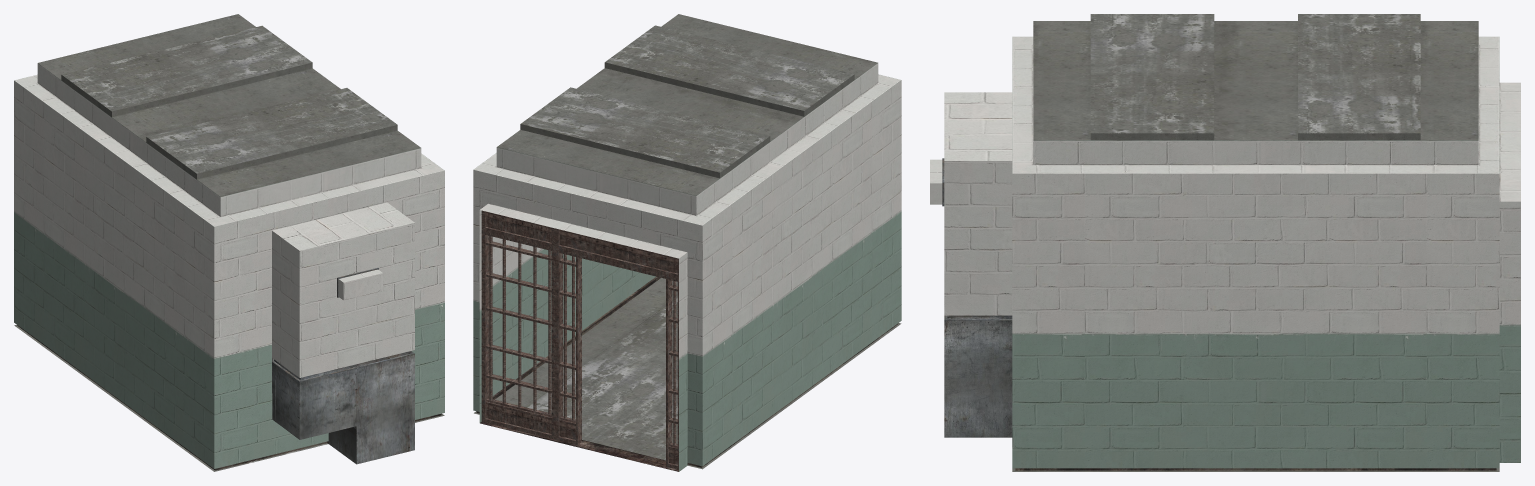
File: cell.fbx
3 views of the same model, side by side, from view 1: azimuth 30°, elevation 25°; view 2: azimuth 150°, elevation 25°; view 3: azimuth 270°, elevation 25° (orthographic). The views are drawn at different scales.
Parts seen in each view (by area): view 1: cell; view 2: cell; view 3: cell.
Part boxes in pixels (<box>): cell: <box>14,14,444,471</box>; cell: <box>473,14,901,471</box>; cell: <box>930,14,1520,471</box>.
Bounding box in the file's own units: 306 × 344 × 558.
Materials: 4 (4 with a texture image).
